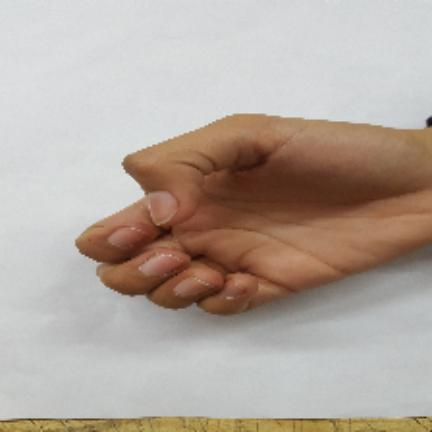Nail: (138, 252, 181, 276), (148, 192, 178, 225), (108, 227, 147, 248), (175, 277, 214, 297), (222, 281, 240, 299)
